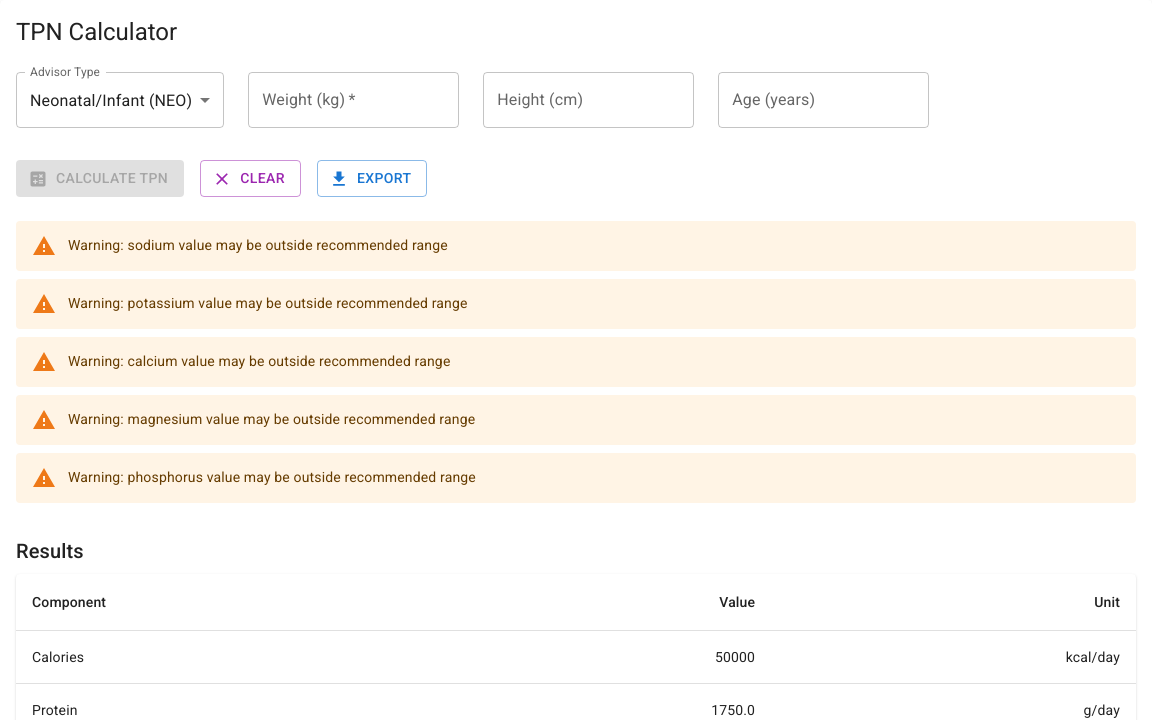
Test: TPNCalculator Component › should clear results when clear button clicked
The width and height of the screenshot is (1152, 720).
// First calculate
Step 1. Type "70" into the number field labelled "Weight (kg) *" → (354, 100), box [248,72,459,128]
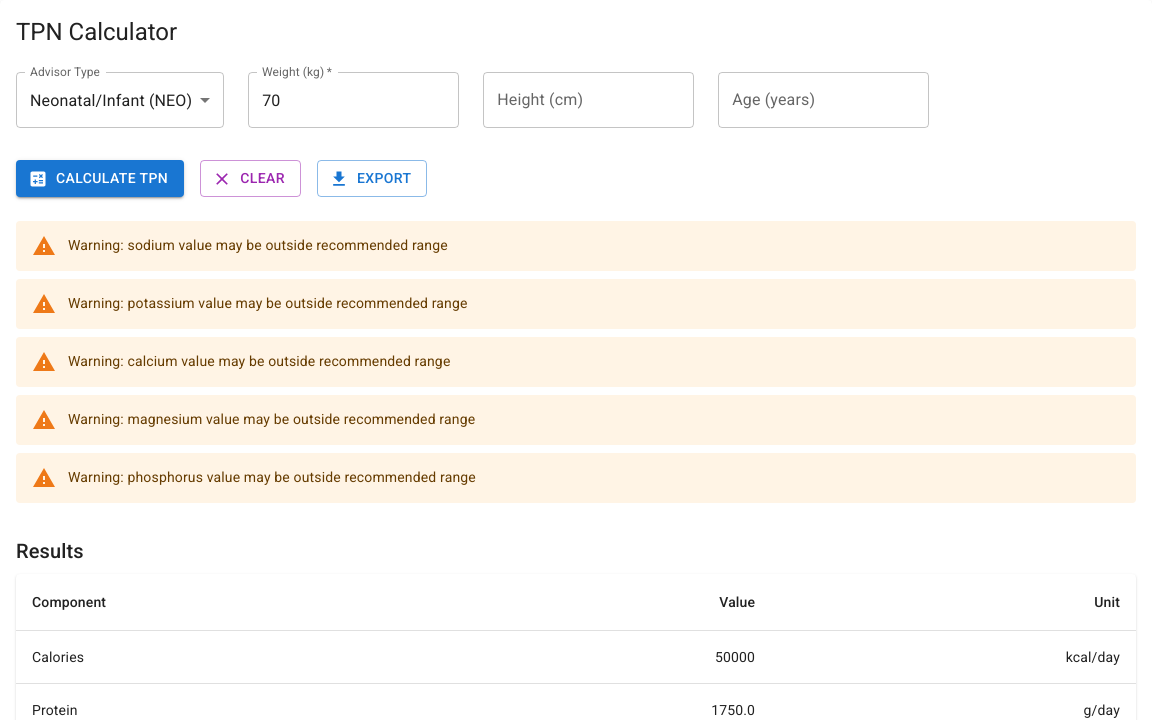
Step 2. Click the button "Calculate TPN" → (100, 179), box [16,160,184,197]
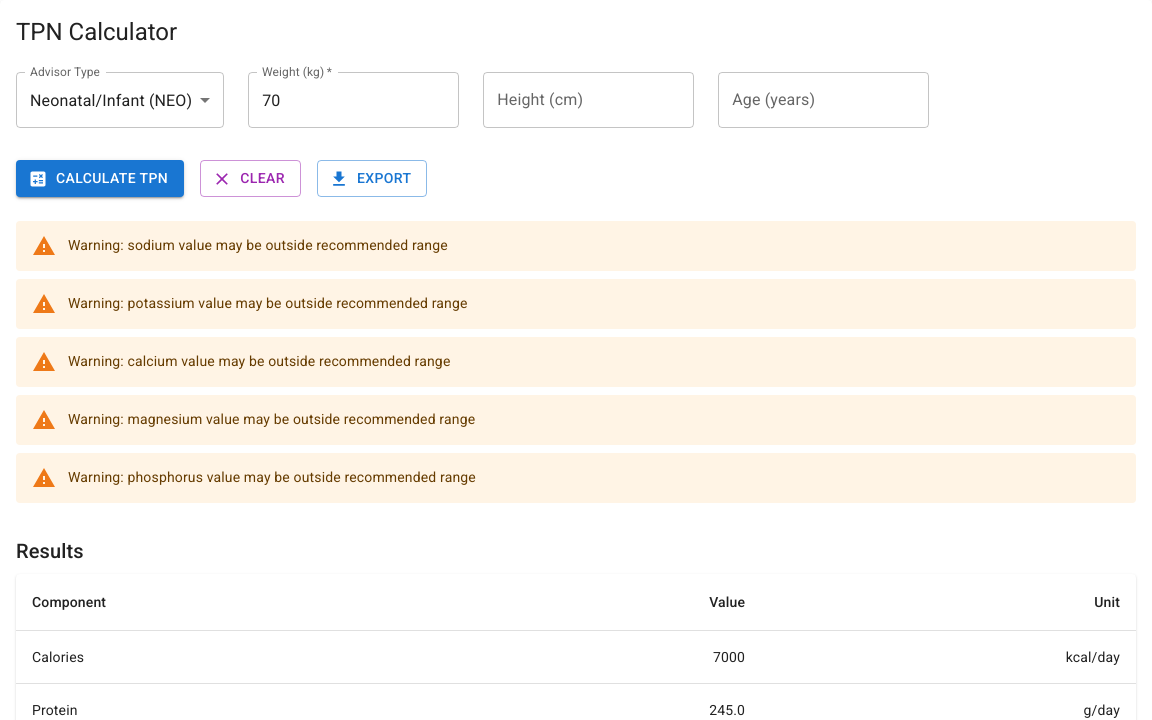
Expected: the heading "Results" is shown, [16,539,84,563]
// Then clear
Step 3. Click the button "Clear" → (251, 179), box [200,160,301,197]
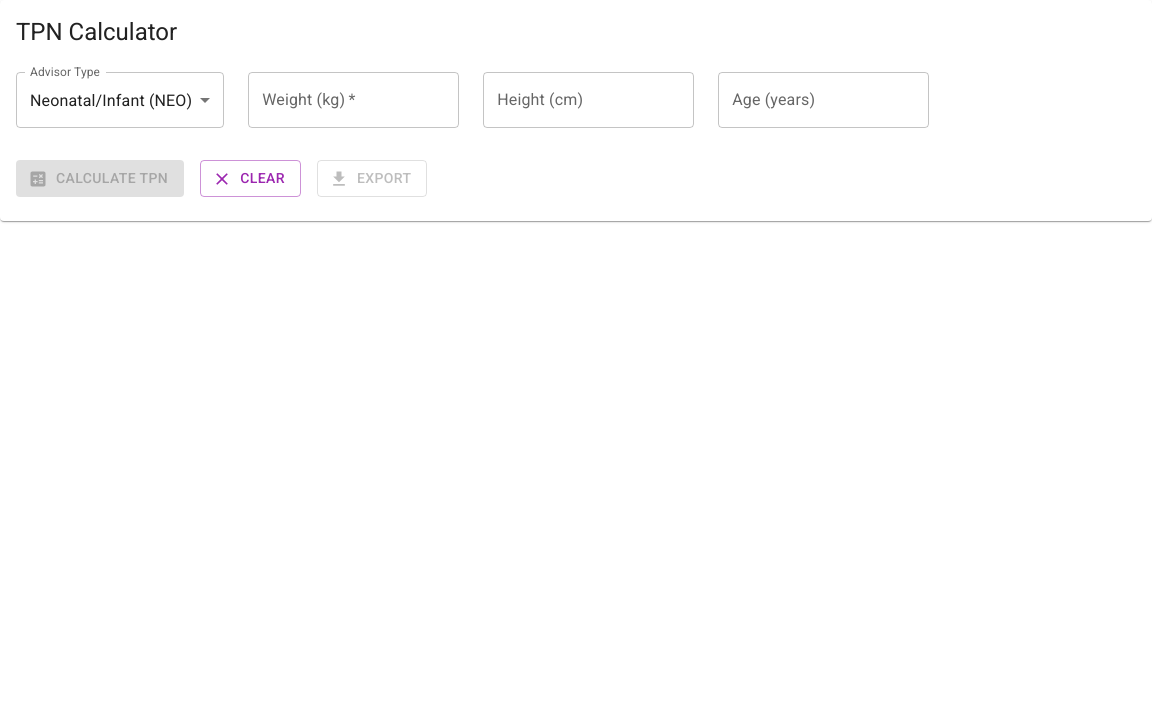
Result: the heading "Results" is gone
